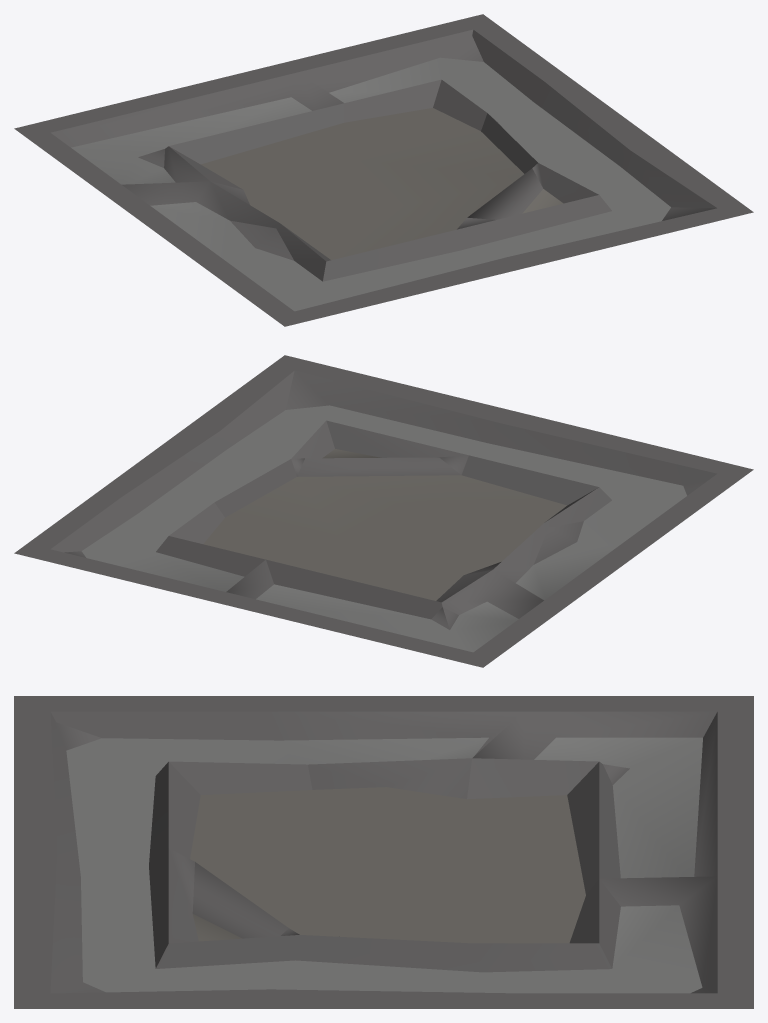
Rendered from SM_Env_Ceiling_Stone_Flat_02.FBX.
3 views of the same model, one above another, from view 1: azimuth 30°, elevation 25°; view 2: azimuth 150°, elevation 25°; view 3: azimuth 270°, elevation 25° (orthographic). The views are drawn at different scales.
Visible parts, largest first — view 1: SM_Env_Ceiling_Stone_Flat_02; view 2: SM_Env_Ceiling_Stone_Flat_02; view 3: SM_Env_Ceiling_Stone_Flat_02.
Part boxes in pixels (bbox=[...]): SM_Env_Ceiling_Stone_Flat_02: bbox=[14, 14, 753, 326]; SM_Env_Ceiling_Stone_Flat_02: bbox=[14, 355, 753, 667]; SM_Env_Ceiling_Stone_Flat_02: bbox=[14, 696, 753, 1008].
Size of what is drawn, in the model's own units: 500 by 500 by 14.98.
